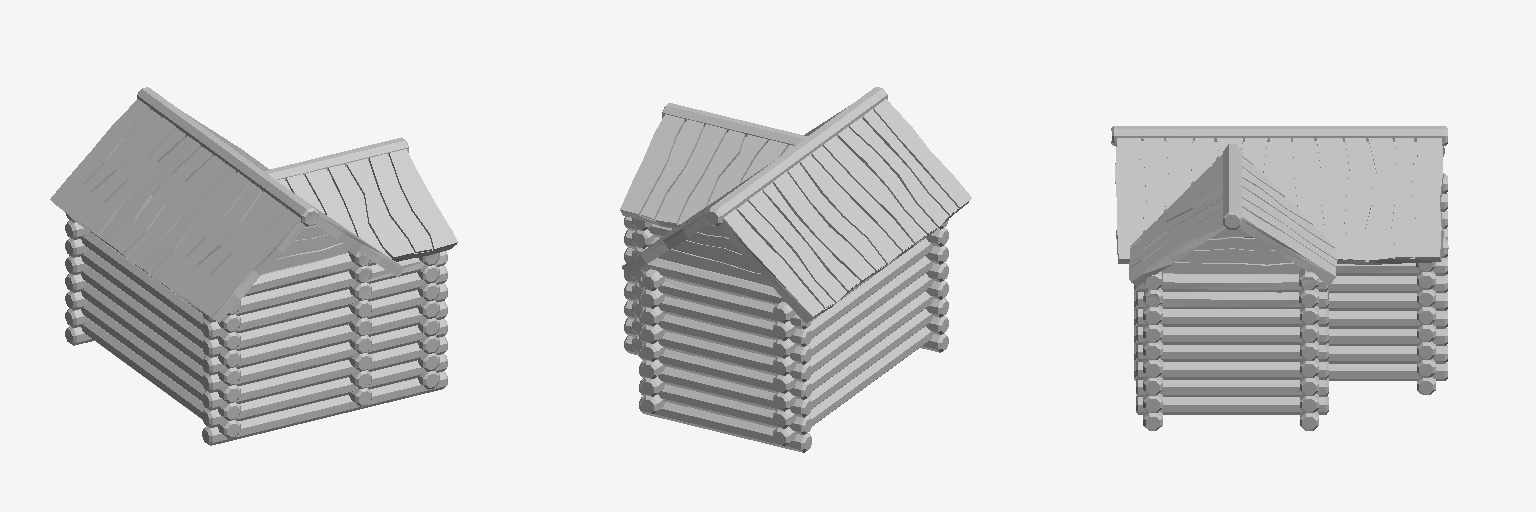
Rendered from Hut2.obj.
The picture shows the model from 3 angles: view 1: azimuth 30°, elevation 25°; view 2: azimuth 150°, elevation 25°; view 3: azimuth 270°, elevation 25°; orthographic projection.
Parts seen in each view (by area): view 1: Log_Hut_2_Cylinder.028; view 2: Log_Hut_2_Cylinder.028; view 3: Log_Hut_2_Cylinder.028.
Boxes of the visible parts, x1=… form: Log_Hut_2_Cylinder.028: x1=50, y1=87, x2=457, y2=445; Log_Hut_2_Cylinder.028: x1=620, y1=87, x2=971, y2=452; Log_Hut_2_Cylinder.028: x1=1111, y1=126, x2=1448, y2=430.
Bounding box in the file's own units: 20.66 × 17.88 × 23.8.